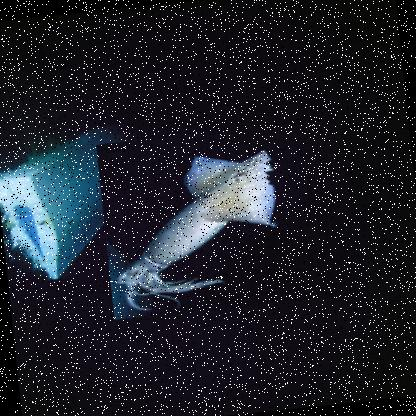colossal_squid: (94, 117, 358, 320)
